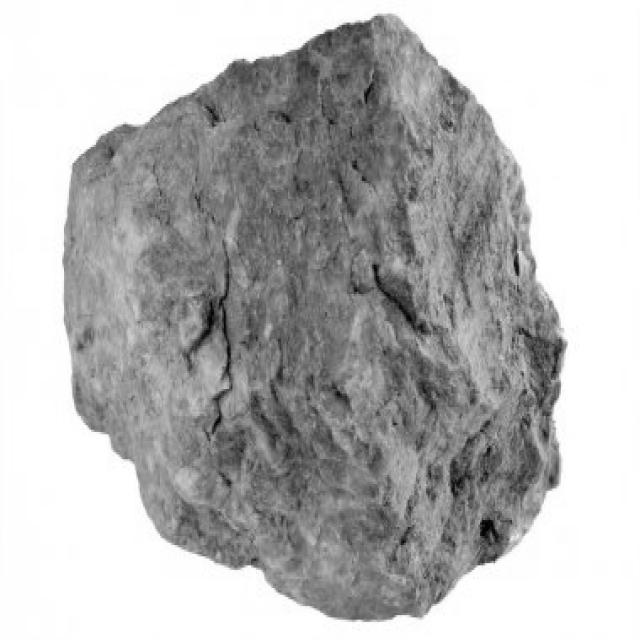Stone: (64, 17, 564, 618)
